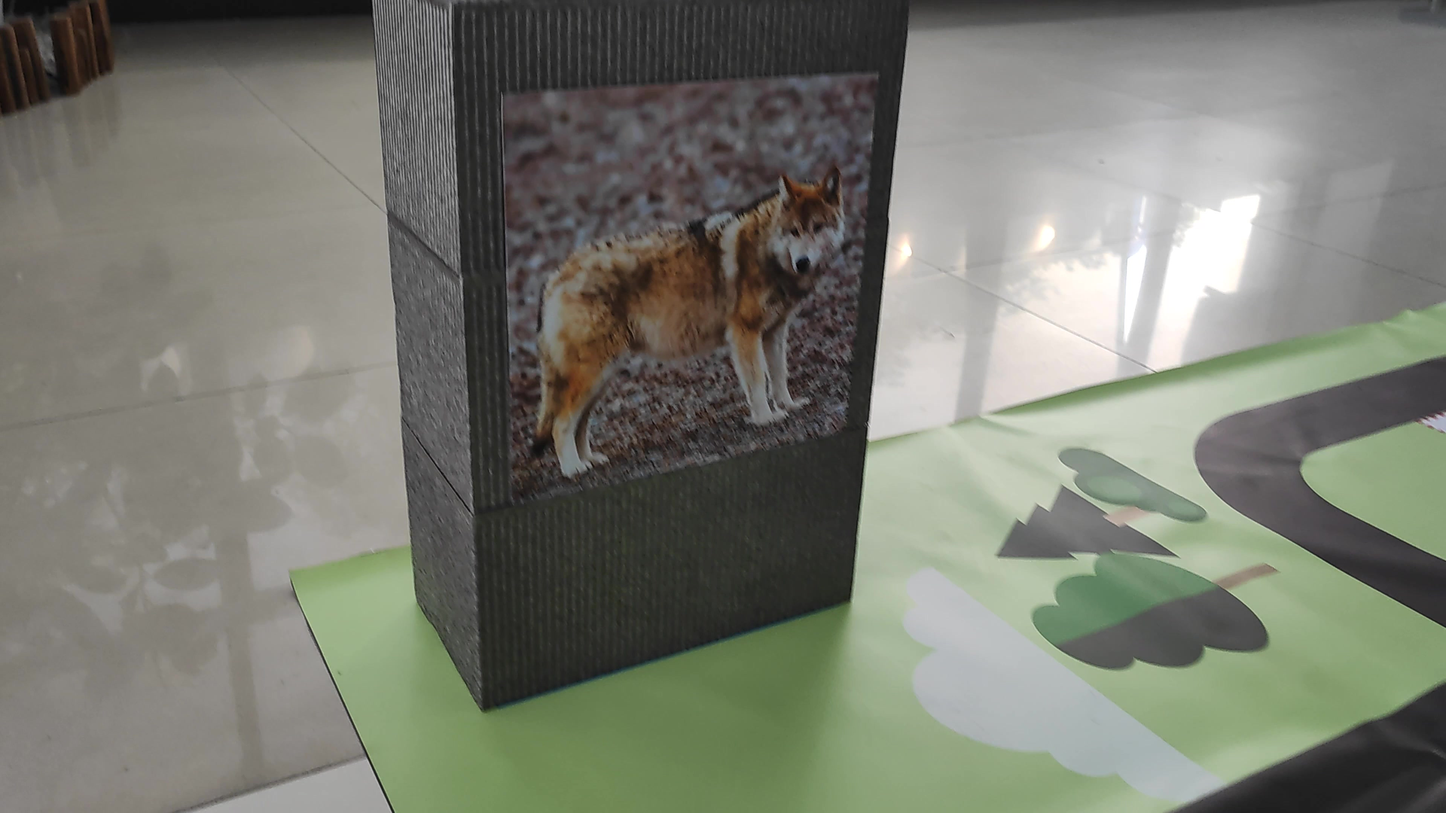wolf: (508, 96, 850, 444)
